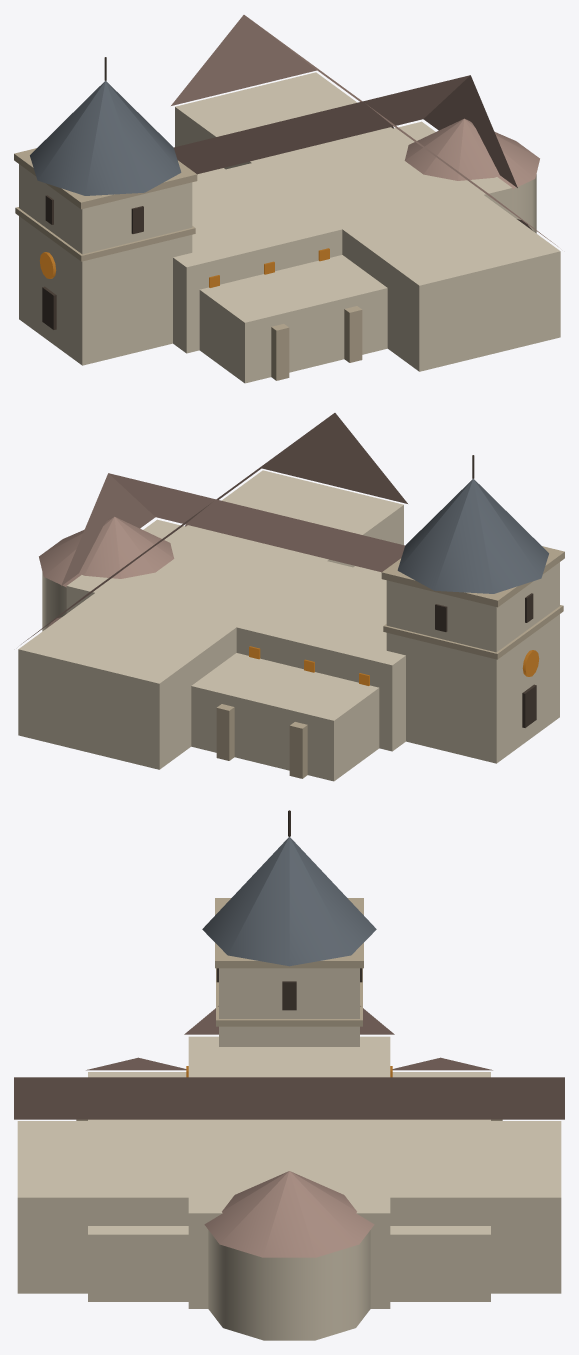
The model's file is mosquee-mevlana-2.glb.
3 views of the same model, one above another, from view 1: azimuth 30°, elevation 25°; view 2: azimuth 150°, elevation 25°; view 3: azimuth 270°, elevation 25° (orthographic). The views are drawn at different scales.
Parts seen in each view (by area): view 1: Mosquée Mevlana; view 2: Mosquée Mevlana; view 3: Mosquée Mevlana.
Boxes of the visible parts, bbox=[...] form: Mosquée Mevlana: bbox=[14, 15, 560, 383]; Mosquée Mevlana: bbox=[18, 413, 564, 781]; Mosquée Mevlana: bbox=[14, 810, 564, 1340].
Bounding box in the file's own units: 53.65 × 28.38 × 46.92.
